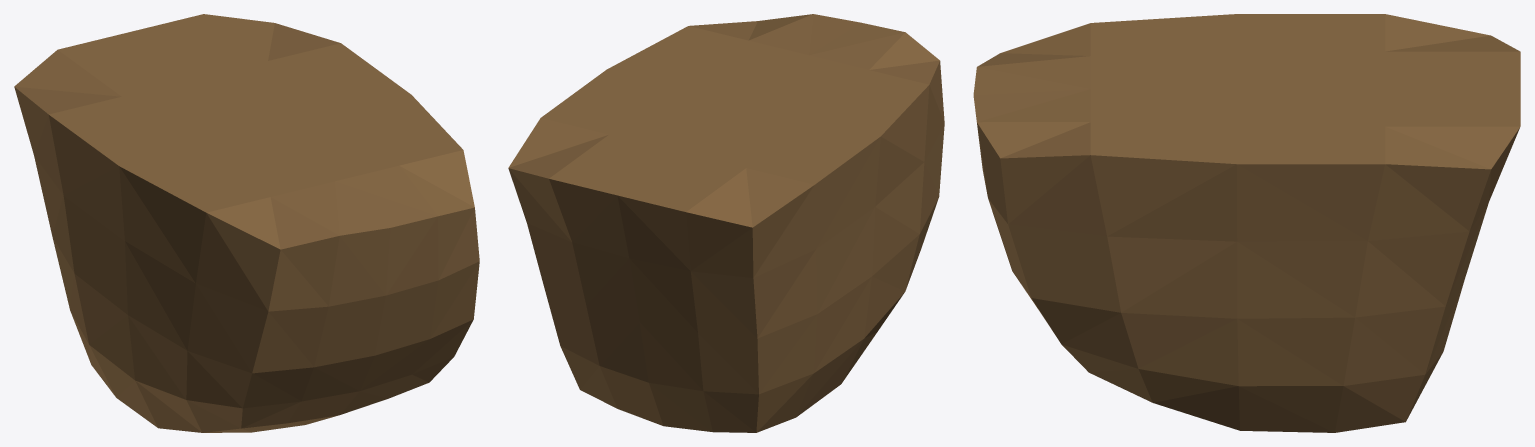
File: LeftFingerJoint13y_joint_visu.dae
3 views of the same model, side by side, from view 1: azimuth 30°, elevation 25°; view 2: azimuth 150°, elevation 25°; view 3: azimuth 270°, elevation 25° (orthographic). The views are drawn at different scales.
Parts seen in each view (by area): view 1: node; view 2: node; view 3: node.
Boxes of the visible parts, <box> form: node: <box>14,14,479,432</box>; node: <box>508,14,944,432</box>; node: <box>973,14,1520,432</box>.
Bounding box in the file's own units: 0.0087 × 0.00847 × 0.0134.
